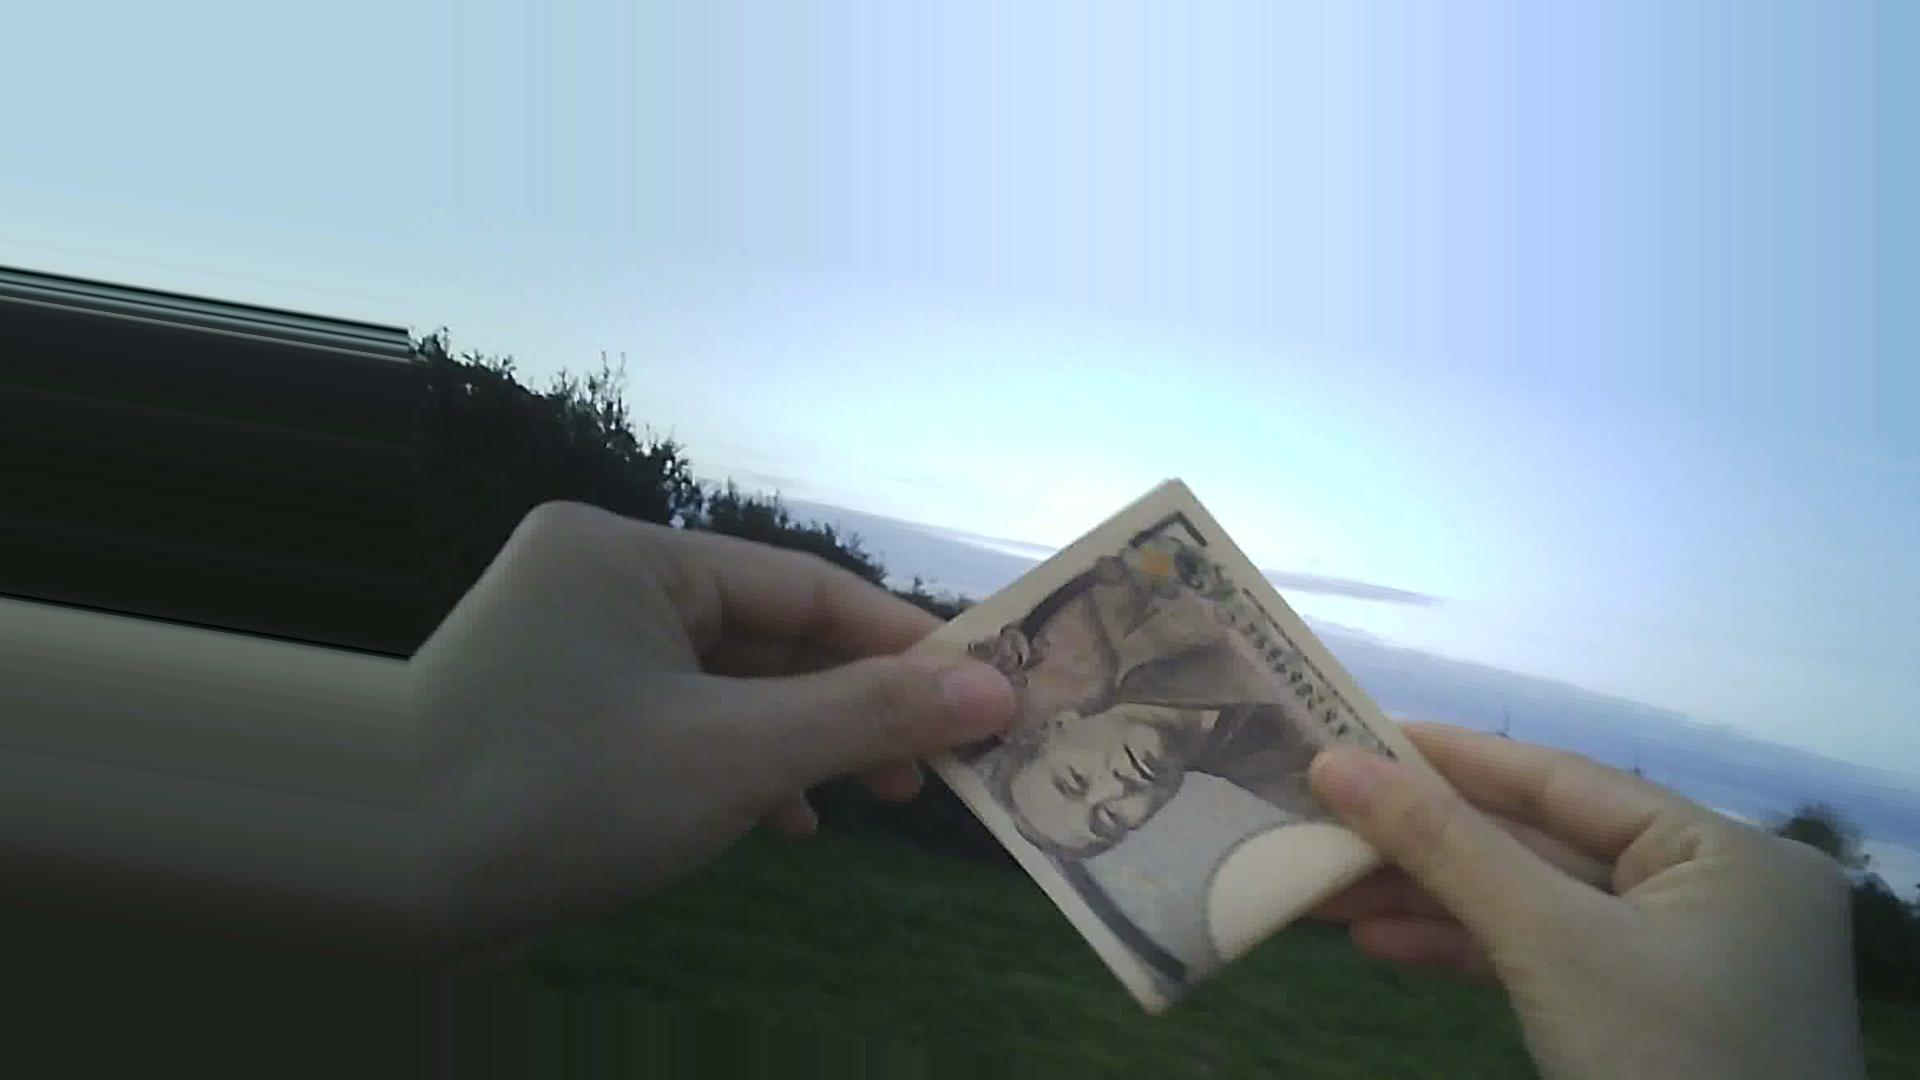10,000 Yen: (862, 491, 1393, 1011)
